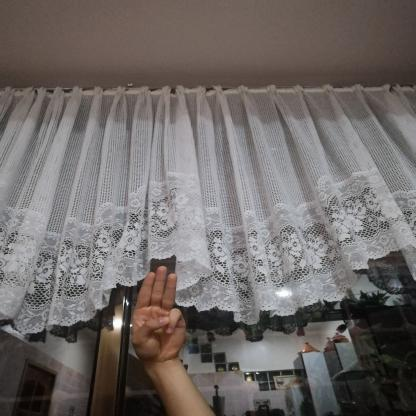THA: (120, 258, 194, 368)
